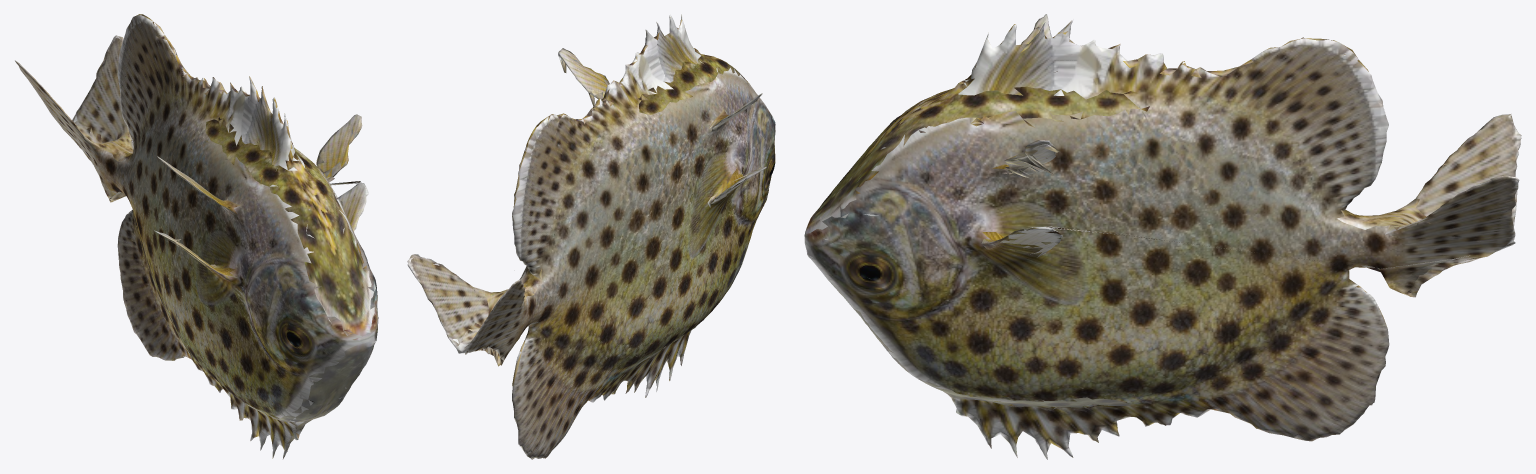
File: fish_scat.glb
3 views of the same model, side by side, from view 1: azimuth 30°, elevation 25°; view 2: azimuth 150°, elevation 25°; view 3: azimuth 270°, elevation 25° (orthographic). The views are drawn at different scales.
Parts seen in each view (by area): view 1: orient; view 2: orient; view 3: orient.
Boxes of the visible parts, <box> form: orient: <box>15,14,378,459</box>; orient: <box>407,14,775,459</box>; orient: <box>804,14,1521,459</box>.
Bounding box in the file's own units: 0.7897 × 1.32 × 1.94.
Materials: 1 (1 with a texture image).
